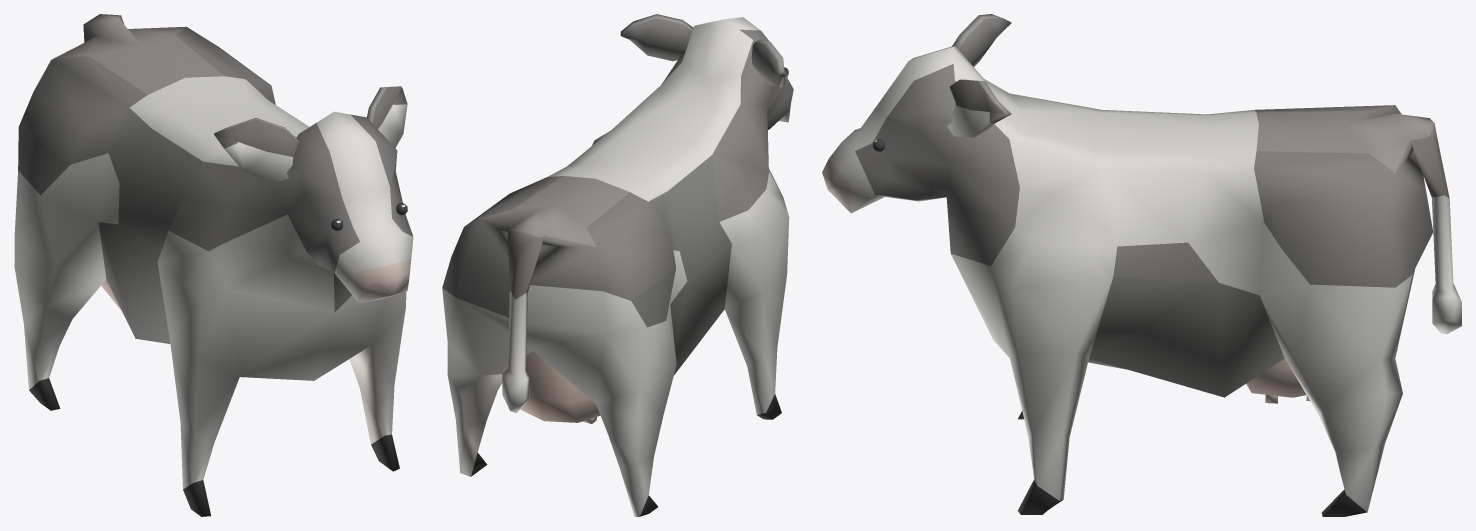
File: CowBlW.glb
3 renders of one model, left to right at view 1: azimuth 30°, elevation 25°; view 2: azimuth 150°, elevation 25°; view 3: azimuth 270°, elevation 25°, orthographic. The views are drawn at different scales.
Visible parts, largest first — view 1: CowBlW.001; view 2: CowBlW.001; view 3: CowBlW.001.
Boxes of the visible parts, <box> form: CowBlW.001: <box>14,14,413,516</box>; CowBlW.001: <box>442,14,793,516</box>; CowBlW.001: <box>822,14,1461,516</box>.
Size of the model in its own units: 0.9202 by 1.59 by 2.2.
